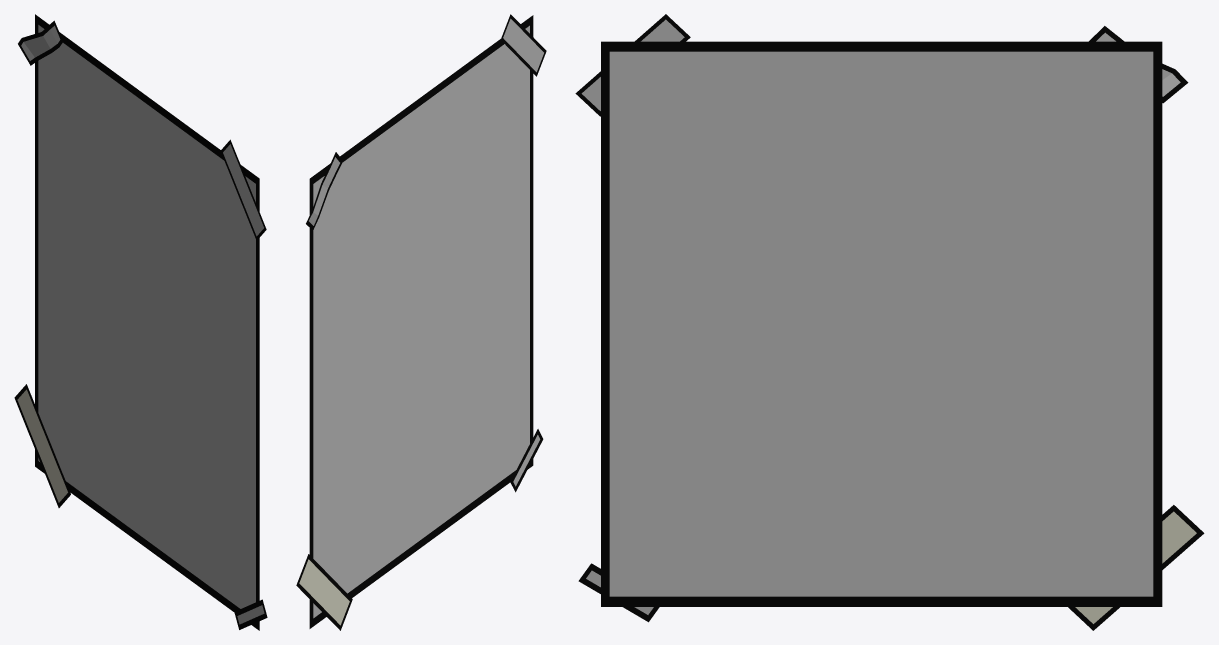
File: winduptoygearboxposter.fbx
The picture shows the model from 3 angles, left to right: view 1: azimuth 30°, elevation 25°; view 2: azimuth 150°, elevation 25°; view 3: azimuth 270°, elevation 25°; orthographic projection. The views are drawn at different scales.
Parts seen in each view (by area): view 1: walldecor.013, walltape.006, walltape.005, walltape.003, walltape.004; view 2: walldecor.013, walltape.006, walltape.005, walltape.003, walltape.004; view 3: walldecor.013, walltape.006, walltape.005, walltape.003.
Part boxes in pixels (bbox=[...]): walldecor.013: bbox=[35, 14, 259, 630]; walltape.006: bbox=[14, 384, 70, 507]; walltape.005: bbox=[220, 139, 266, 240]; walltape.003: bbox=[18, 20, 63, 65]; walltape.004: bbox=[234, 599, 267, 629]; walldecor.013: bbox=[309, 15, 533, 628]; walltape.006: bbox=[296, 554, 352, 630]; walltape.005: bbox=[500, 14, 546, 76]; walltape.003: bbox=[306, 152, 342, 230]; walltape.004: bbox=[510, 429, 543, 492]; walldecor.013: bbox=[601, 41, 1162, 606]; walltape.006: bbox=[1068, 505, 1204, 630]; walltape.005: bbox=[575, 14, 690, 116]; walltape.003: bbox=[1089, 26, 1188, 103].
Bounding box in the file's own units: 3.01 × 180 × 167.
